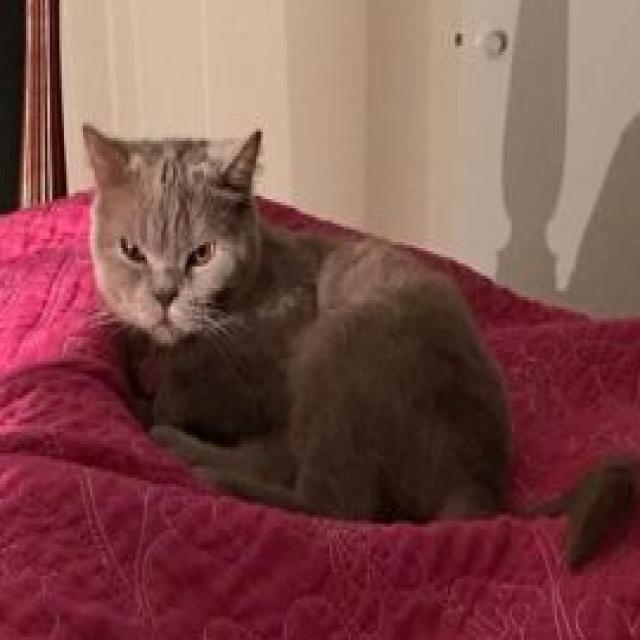British Shorthair: (76, 116, 640, 576)
